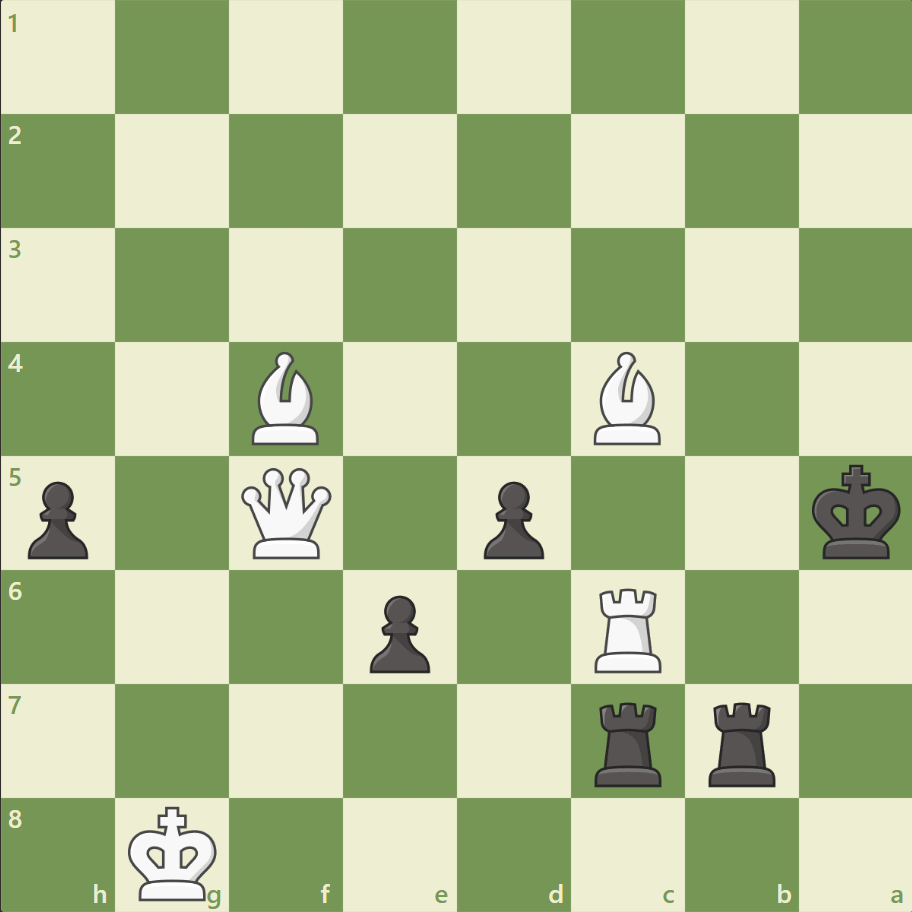B: (585, 347, 669, 449), (244, 347, 328, 449)
K: (124, 798, 224, 906)
Q: (237, 463, 336, 562)
R: (587, 579, 670, 676)
k: (806, 458, 906, 566)
p: (474, 473, 549, 564), (20, 473, 95, 564), (361, 586, 435, 677)
r: (700, 693, 783, 790), (587, 693, 670, 790)
